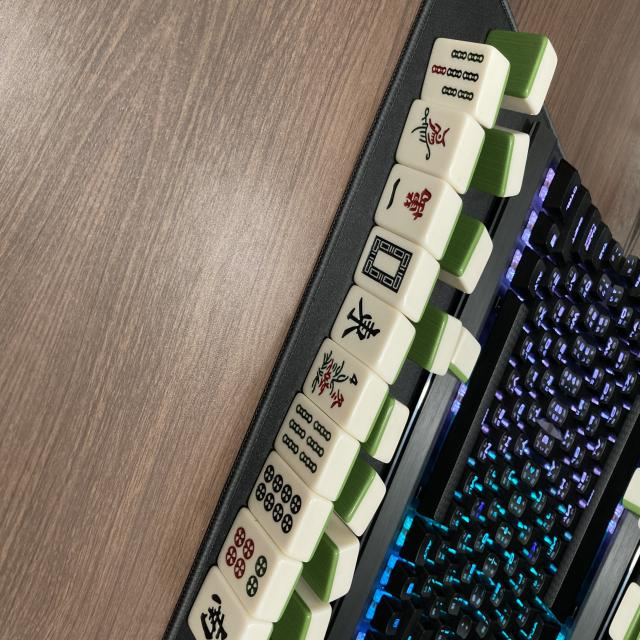bai: (354, 228, 424, 308)
east: (328, 285, 400, 369)
ff4: (301, 340, 373, 426)
m1: (375, 167, 444, 244)
s1: (396, 102, 462, 177)
s6: (273, 394, 344, 482)
s7: (424, 42, 491, 114)
south: (185, 569, 251, 640)
t6: (212, 511, 282, 614)
t8: (244, 453, 314, 550)
